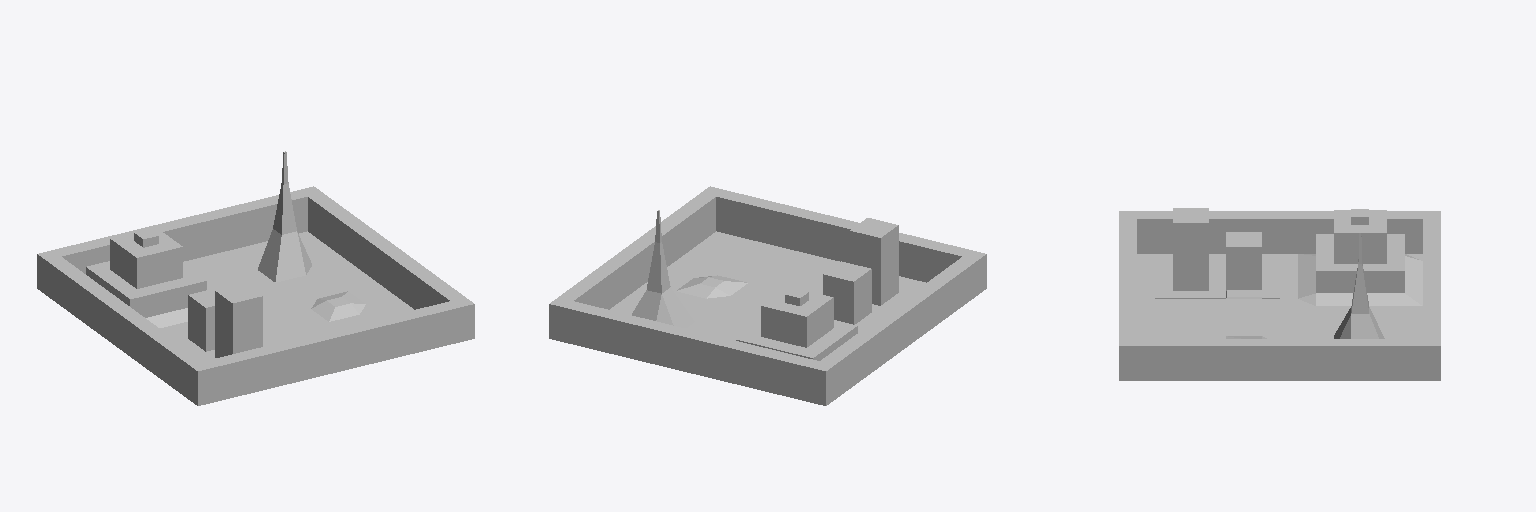
The model's file is city.obj.
3 renders of one model, left to right at view 1: azimuth 30°, elevation 25°; view 2: azimuth 150°, elevation 25°; view 3: azimuth 270°, elevation 25°, orthographic.
Visible parts, largest first — view 1: Grid; view 2: Grid; view 3: Grid.
Part boxes in pixels (x1,y1,x2,y2): Grid: (37, 151, 474, 405); Grid: (549, 186, 986, 405); Grid: (1119, 208, 1440, 380).
Bounding box in the file's own units: 15.97 × 6.36 × 16.04.